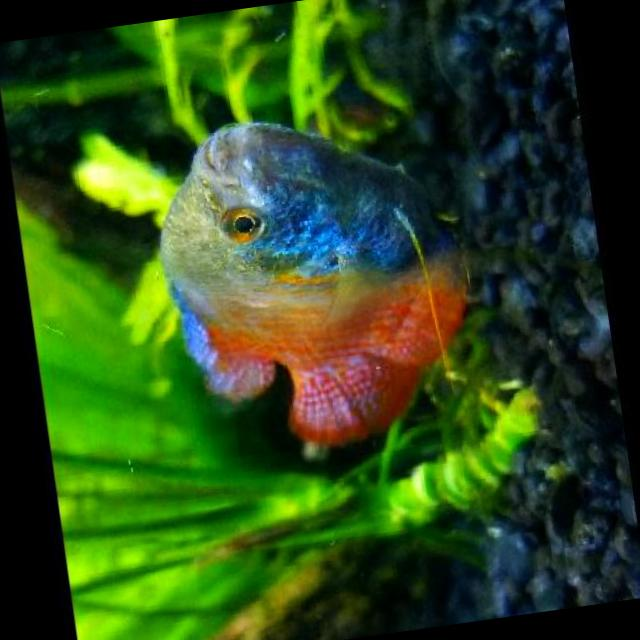Gourami: (128, 78, 500, 471)
